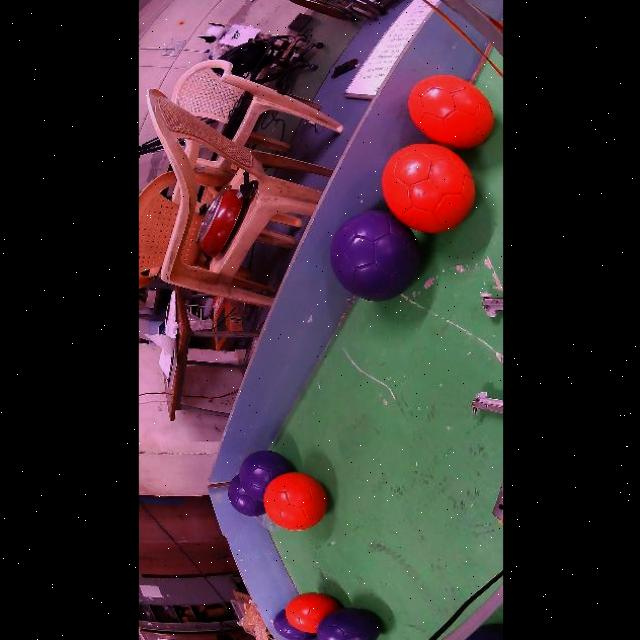P: (329, 210, 420, 301), (238, 451, 293, 501), (315, 608, 379, 640), (226, 475, 264, 516), (272, 609, 315, 640)
R: (381, 143, 474, 233), (407, 75, 492, 148), (263, 472, 326, 530), (285, 592, 339, 634)
